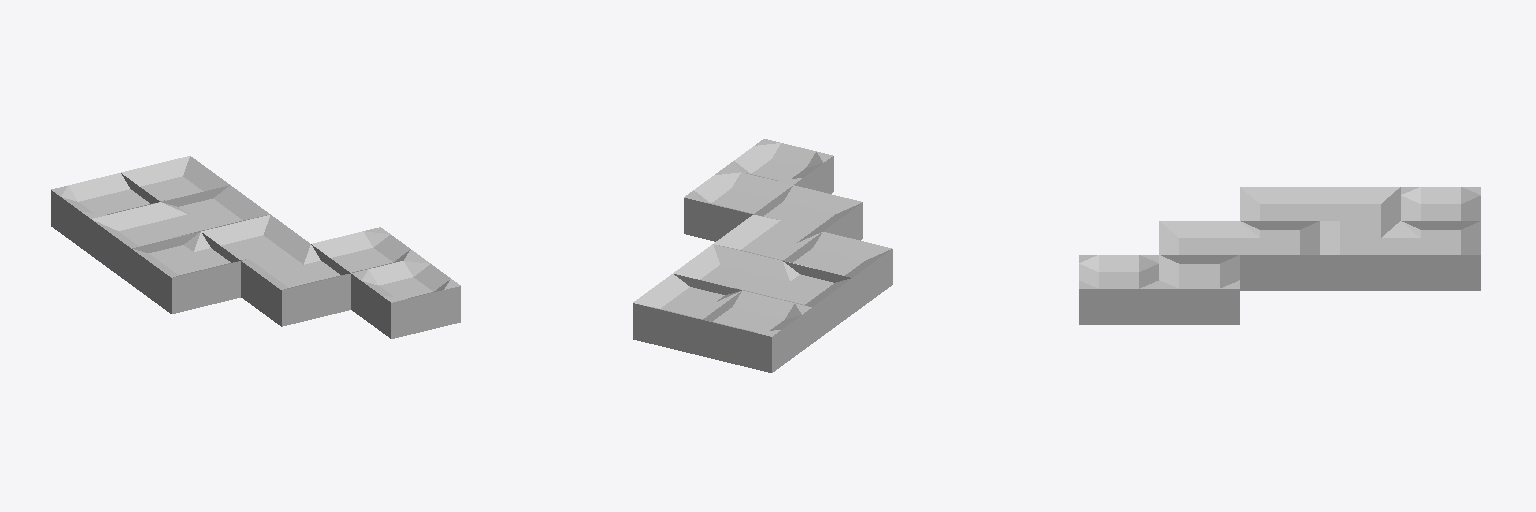
Rendered from 24s_path.obj.
3 views of the same model, side by side, from view 1: azimuth 30°, elevation 25°; view 2: azimuth 150°, elevation 25°; view 3: azimuth 270°, elevation 25° (orthographic).
Parts seen in each view (by area): view 1: hole.3.0_Cube.198, corner.2.1_corner.981, corner.1.2_corner.979, corner.1.3_corner.980, ending.1.4_ending.393, corner.2.2_corner.982, corner.2.3_corner.983, corner.2.4_corner.984, ending.3.1_ending.394; view 2: ending.1.4_ending.393, corner.2.4_corner.984, ending.3.1_ending.394, corner.1.2_corner.979, corner.2.1_corner.981, corner.1.3_corner.980, hole.3.0_Cube.198, corner.2.3_corner.983, corner.2.2_corner.982; view 3: corner.2.4_corner.984, hole.3.0_Cube.198, corner.2.2_corner.982, corner.2.3_corner.983, ending.3.1_ending.394, corner.2.1_corner.981, corner.1.3_corner.980, corner.1.2_corner.979, ending.1.4_ending.393.
Part boxes in pixels (bbox=[...]): hole.3.0_Cube.198: bbox=[351, 257, 460, 338]; corner.2.1_corner.981: bbox=[241, 244, 350, 326]; corner.1.2_corner.979: bbox=[131, 232, 240, 313]; corner.1.3_corner.980: bbox=[91, 202, 199, 283]; ending.1.4_ending.393: bbox=[51, 173, 158, 254]; corner.2.2_corner.982: bbox=[201, 215, 309, 265]; corner.2.3_corner.983: bbox=[161, 185, 270, 232]; corner.2.4_corner.984: bbox=[121, 156, 229, 203]; ending.3.1_ending.394: bbox=[312, 227, 420, 272]; ending.1.4_ending.393: bbox=[702, 290, 811, 372]; corner.2.4_corner.984: bbox=[633, 274, 741, 355]; ending.3.1_ending.394: bbox=[684, 168, 792, 241]; corner.1.2_corner.979: bbox=[784, 232, 892, 313]; corner.2.1_corner.981: bbox=[753, 185, 862, 240]; corner.1.3_corner.980: bbox=[747, 261, 851, 343]; hole.3.0_Cube.198: bbox=[725, 139, 833, 193]; corner.2.3_corner.983: bbox=[673, 244, 781, 294]; corner.2.2_corner.982: bbox=[714, 215, 821, 261]; corner.2.4_corner.984: bbox=[1401, 221, 1480, 290]; hole.3.0_Cube.198: bbox=[1079, 255, 1158, 324]; corner.2.2_corner.982: bbox=[1240, 221, 1319, 290]; corner.2.3_corner.983: bbox=[1320, 221, 1400, 290]; ending.3.1_ending.394: bbox=[1159, 255, 1239, 324]; corner.2.1_corner.981: bbox=[1159, 221, 1239, 263]; corner.1.3_corner.980: bbox=[1320, 187, 1400, 229]; corner.1.2_corner.979: bbox=[1240, 187, 1319, 229]; ending.1.4_ending.393: bbox=[1401, 187, 1480, 220].
Size of the model in its own units: 6 by 1 by 10.